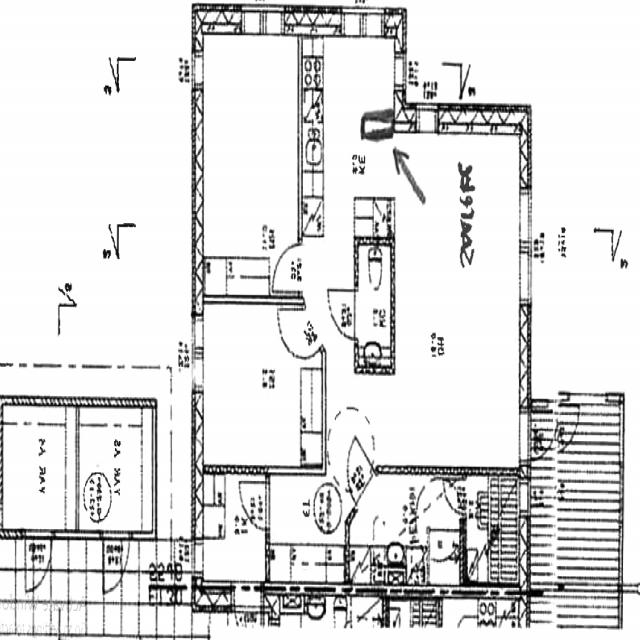door: (282, 306, 323, 378), (338, 439, 378, 508), (520, 412, 558, 460), (25, 532, 52, 587), (328, 290, 358, 339), (239, 483, 270, 530), (103, 532, 129, 587), (272, 245, 302, 292), (443, 480, 467, 513)
